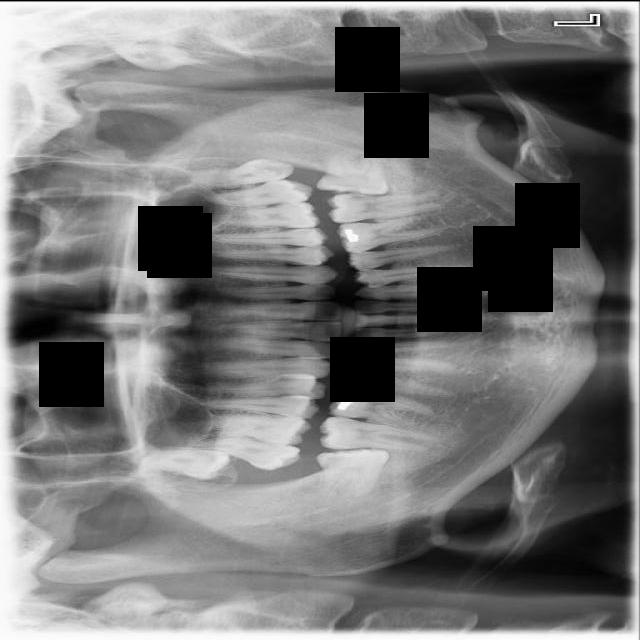3M ESPE Implant: (134, 444, 230, 479)
52: (327, 375, 381, 429), (335, 214, 381, 257), (351, 193, 365, 198)
73: (590, 70, 594, 74)
BioHorizons Implant: (205, 176, 314, 209)
BioLife Implant: (190, 153, 296, 192)
Biomet 3i Implant: (315, 142, 394, 199)
Blue Sky Bio Implant: (326, 185, 446, 223)
Caries: (177, 427, 303, 475)
Implant: (318, 415, 432, 450)
Keystone Dental Implant: (315, 446, 391, 498)
